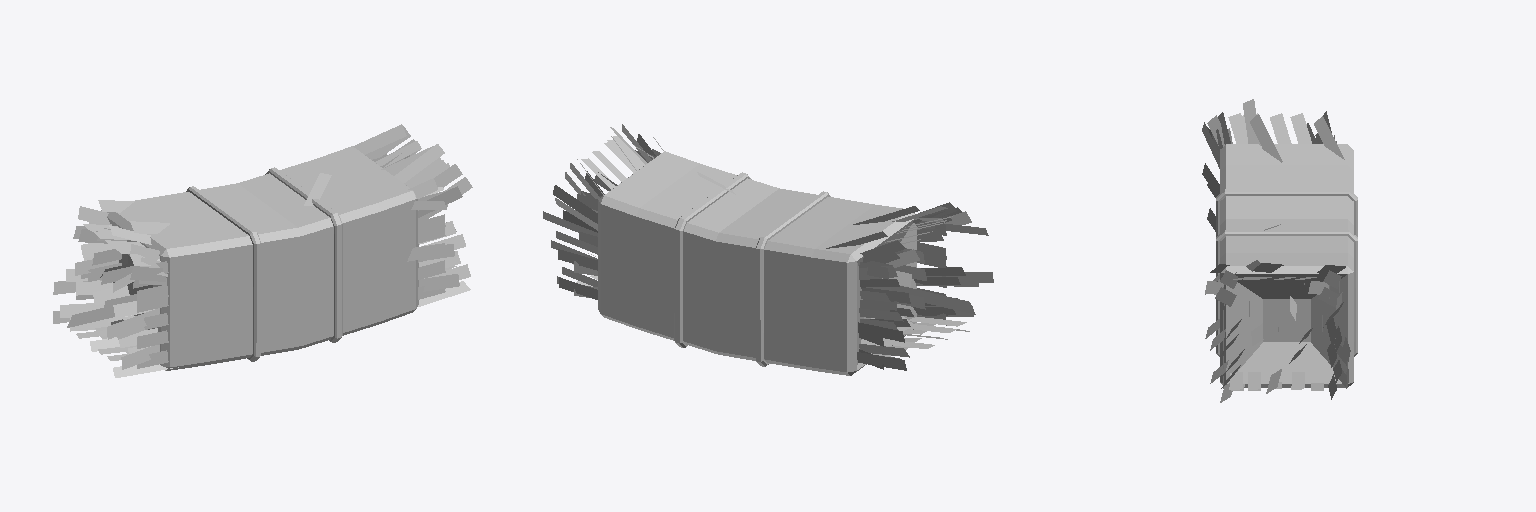
Rendered from hay.obj.
The picture shows the model from 3 angles: view 1: azimuth 30°, elevation 25°; view 2: azimuth 150°, elevation 25°; view 3: azimuth 270°, elevation 25°; orthographic projection.
Visible parts, largest first — view 1: pCube582; view 2: pCube582; view 3: pCube582.
Part boxes in pixels (bbox=[...]): pCube582: bbox=[53, 124, 472, 377]; pCube582: bbox=[543, 124, 993, 375]; pCube582: bbox=[1202, 99, 1357, 402].
Bounding box in the file's own units: 3.41 × 1.3 × 1.16.